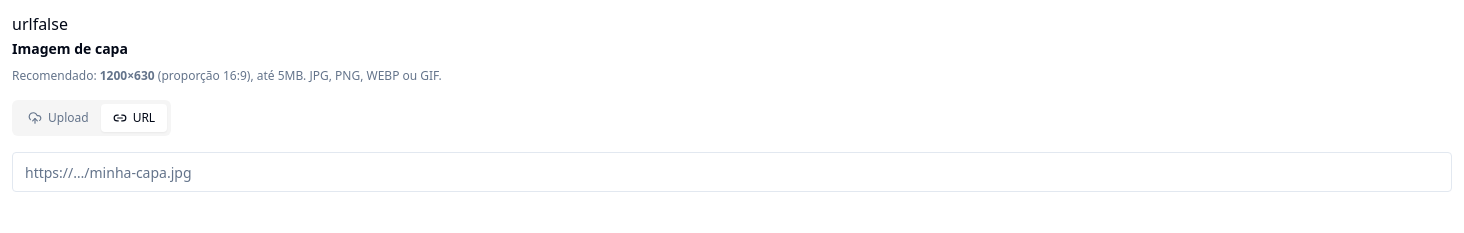
CoverSourceField — modo URL › URL inválida exibe erro e não impede atualização do state (preview ainda reflete digitação)
Step 1. Type "not-a-url" into the field with placeholder "https://…/minha-capa.jpg" → x=732, y=172, box [12,152,1452,192]
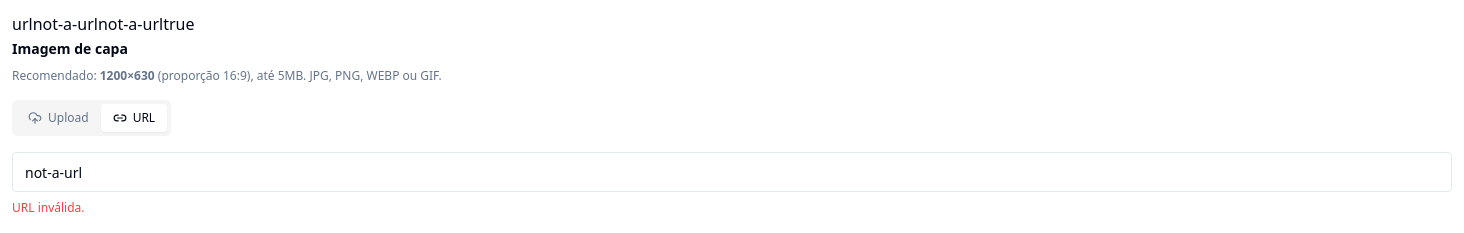
Expected: the message shows "URL", [12,199,84,216]
